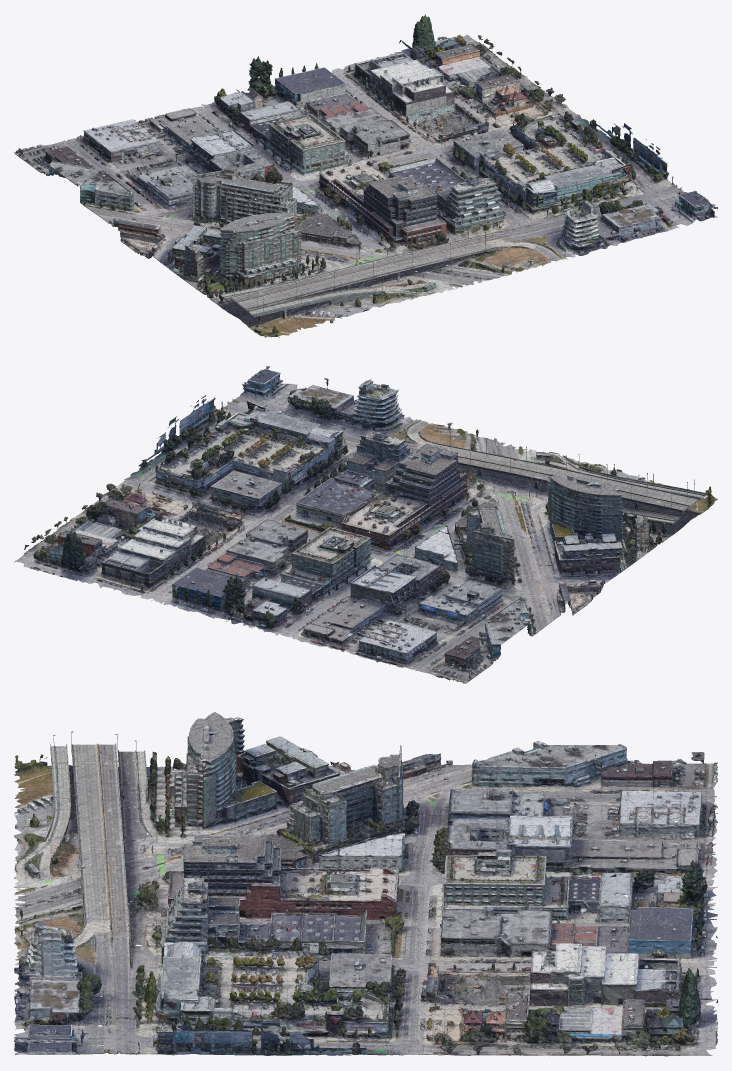
Rendered from vancouver_police_-_cambie_st._vancouver_bc_ca.glb.
The picture shows the model from 3 angles, top to bottom: view 1: azimuth 30°, elevation 25°; view 2: azimuth 150°, elevation 25°; view 3: azimuth 270°, elevation 25°; orthographic projection. The views are drawn at different scales.
Parts seen in each view (by area): view 1: Object_4; view 2: Object_4; view 3: Object_4.
Boxes of the visible parts, <box> form: Object_4: <box>14,14,717,337</box>; Object_4: <box>14,366,717,683</box>; Object_4: <box>14,712,717,1056</box>.
Bounding box in the file's own units: 26.88 × 3.97 × 26.03.
Materials: 1 (1 with a texture image).
